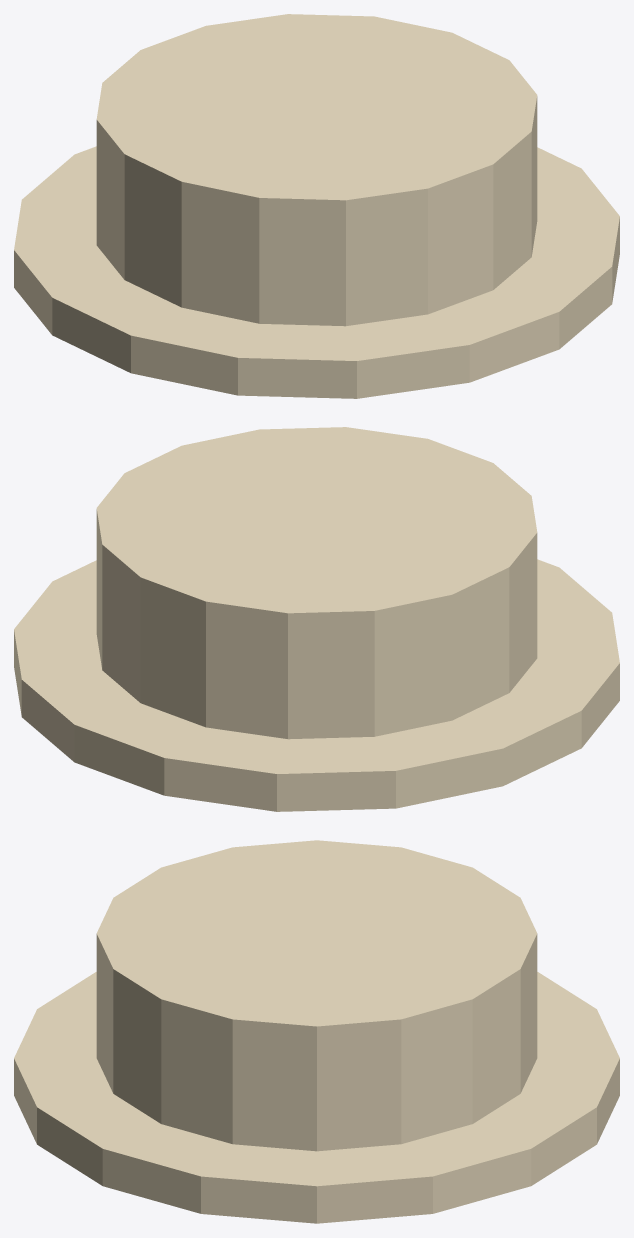
Rendered from female_bucket_hat.glb.
3 views of the same model, one above another, from view 1: azimuth 30°, elevation 25°; view 2: azimuth 150°, elevation 25°; view 3: azimuth 270°, elevation 25° (orthographic).
Parts seen in each view (by area): view 1: BucketHat; view 2: BucketHat; view 3: BucketHat.
Part boxes in pixels (left/top/right/bottom): BucketHat: left=14, top=14, right=619, bottom=398; BucketHat: left=14, top=427, right=619, bottom=811; BucketHat: left=14, top=840, right=619, bottom=1223.
Bounding box in the file's own units: 0.44 × 0.13 × 0.44.
